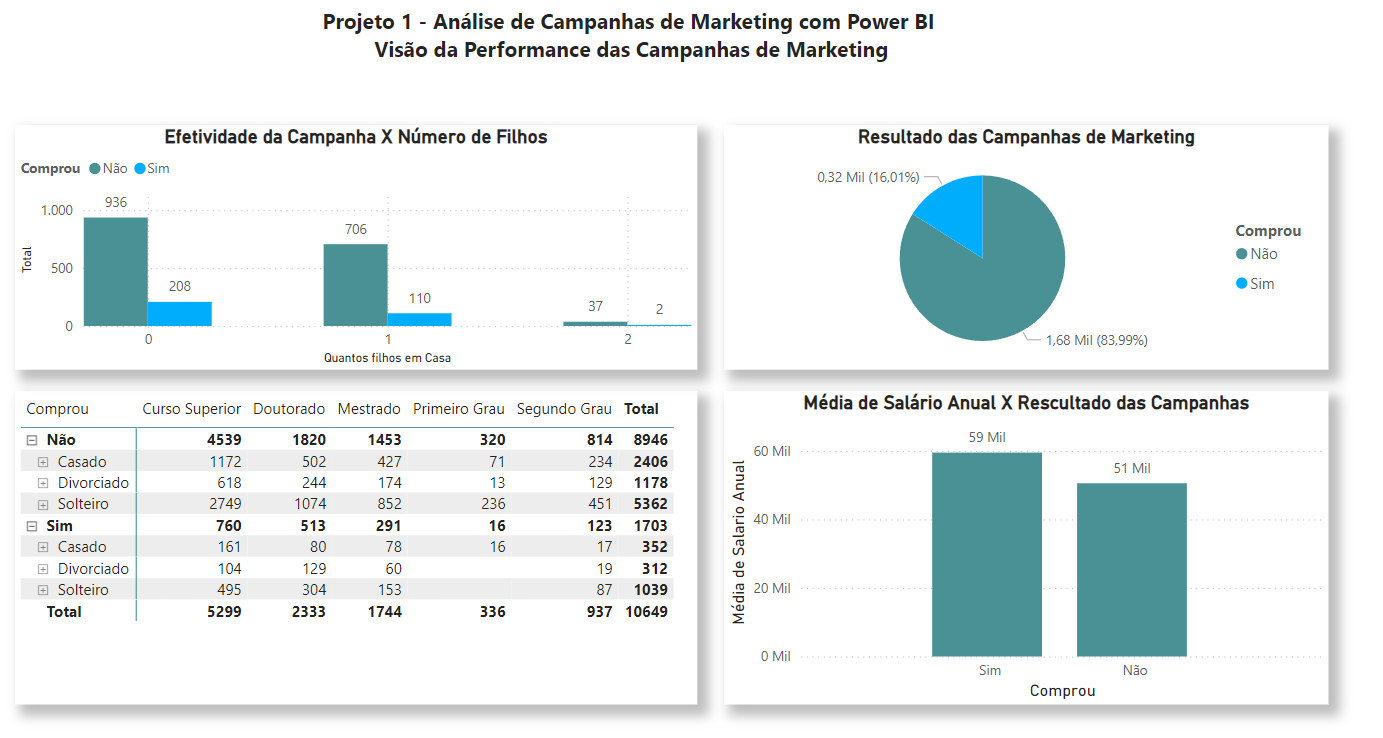

The page's visual inventory and layout, read from the dashboard file:
{"tool":"powerbi","page":{"name":"Visão campanhas","canvas":[1280,720],"ordinal":2},"visuals":[{"type":"pieChart","title":"Resultado das Campanhas de Marketing","fields":{"Category":["DadosMarketing.Comprou"],"Y":["CountNonNull(DadosMarketing.ID)"]},"box":[678.3,117,536.5,217.2],"z":0},{"type":"clusteredColumnChart","title":"Média de Salário Anual X Rescultado das Campanhas","fields":{"Category":["DadosMarketing.Comprou"],"Y":["Avg(DadosMarketing.Salario Anual)"]},"box":[678.3,352.9,536.5,278.4],"z":1000},{"type":"actionButton","box":[0,0,100,40],"z":2000},{"type":"pivotTable","fields":{"Rows":["DadosMarketing.Comprou","DadosMarketing.Estado Civil","DadosMarketing.Pais"],"Columns":["DadosMarketing.Escolaridade"],"Values":["Sum(DadosMarketing.Numero Visitas WebSite Mes)"]},"box":[49.7,352.9,604.7,278.4],"z":3000},{"type":"textbox","box":[50,7,1093,71],"z":4000},{"type":"clusteredColumnChart","title":"Efetividade da Campanha X Número de Filhos","fields":{"Series":["DadosMarketing.Comprou"],"Y":["CountNonNull(DadosMarketing.Filhos em Casa)"],"Category":["DadosMarketing.Filhos em Casa"]},"box":[49.7,117,604.7,217.2],"z":5000}]}

Visuals, with their boxes on the page's 1280x720 design canvas (x1, y1, x2, y2). These are canvas units, not pixel positions in the 1383x738 screenshot, which may show the page scaled, cropped or inside an application window:
"Resultado das Campanhas de Marketing" pieChart: (x1=678, y1=117, x2=1215, y2=334)
"Média de Salário Anual X Rescultado das Campanhas" clusteredColumnChart: (x1=678, y1=353, x2=1215, y2=631)
actionButton: (x1=0, y1=0, x2=100, y2=40)
pivotTable - DadosMarketing.Comprou x DadosMarketing.Estado Civil: (x1=50, y1=353, x2=654, y2=631)
textbox: (x1=50, y1=7, x2=1143, y2=78)
"Efetividade da Campanha X Número de Filhos" clusteredColumnChart: (x1=50, y1=117, x2=654, y2=334)
